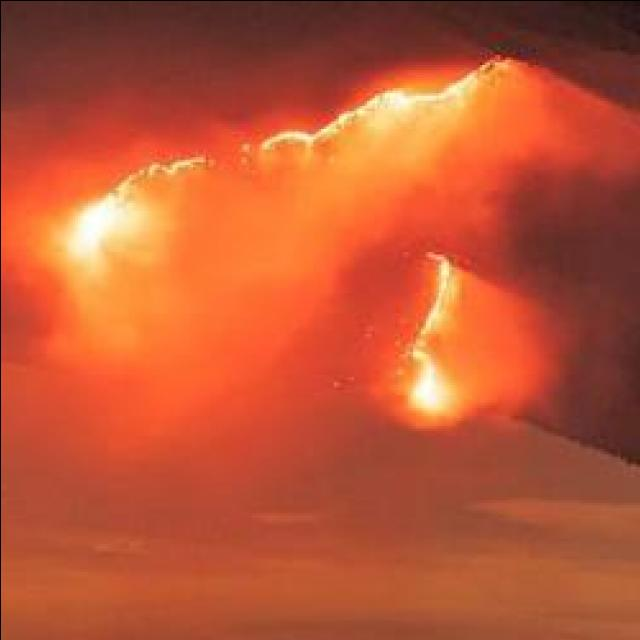fire: (402, 268, 469, 418), (57, 184, 147, 272), (282, 128, 314, 147)
smoke: (341, 102, 494, 264), (456, 257, 584, 440), (36, 277, 154, 385), (476, 105, 618, 188)
